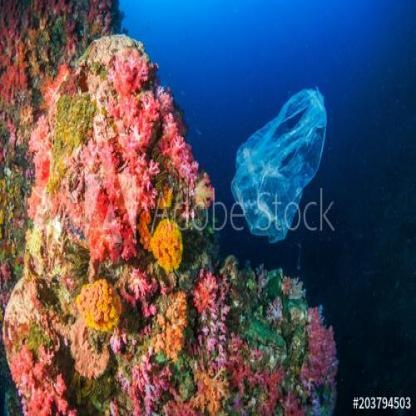pbag: (230, 87, 327, 244)
